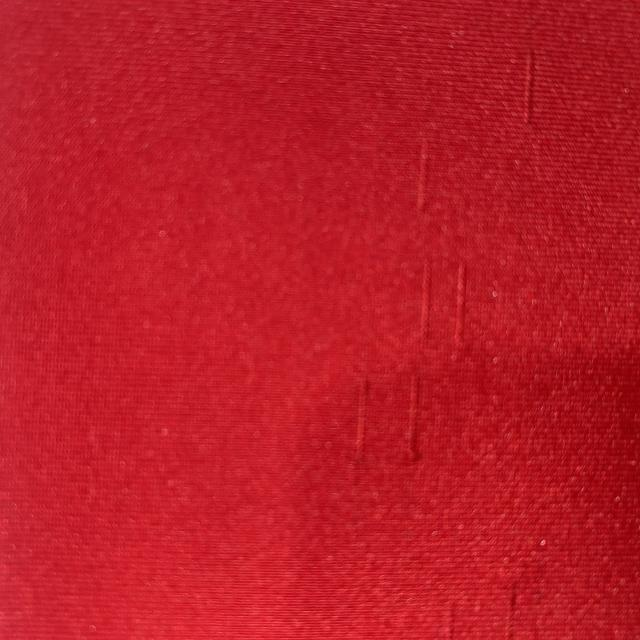Knot: (407, 371, 421, 465), (522, 47, 536, 123), (357, 374, 369, 462), (456, 256, 467, 346), (417, 135, 429, 215), (420, 259, 431, 340), (506, 582, 515, 640), (447, 597, 456, 640)
